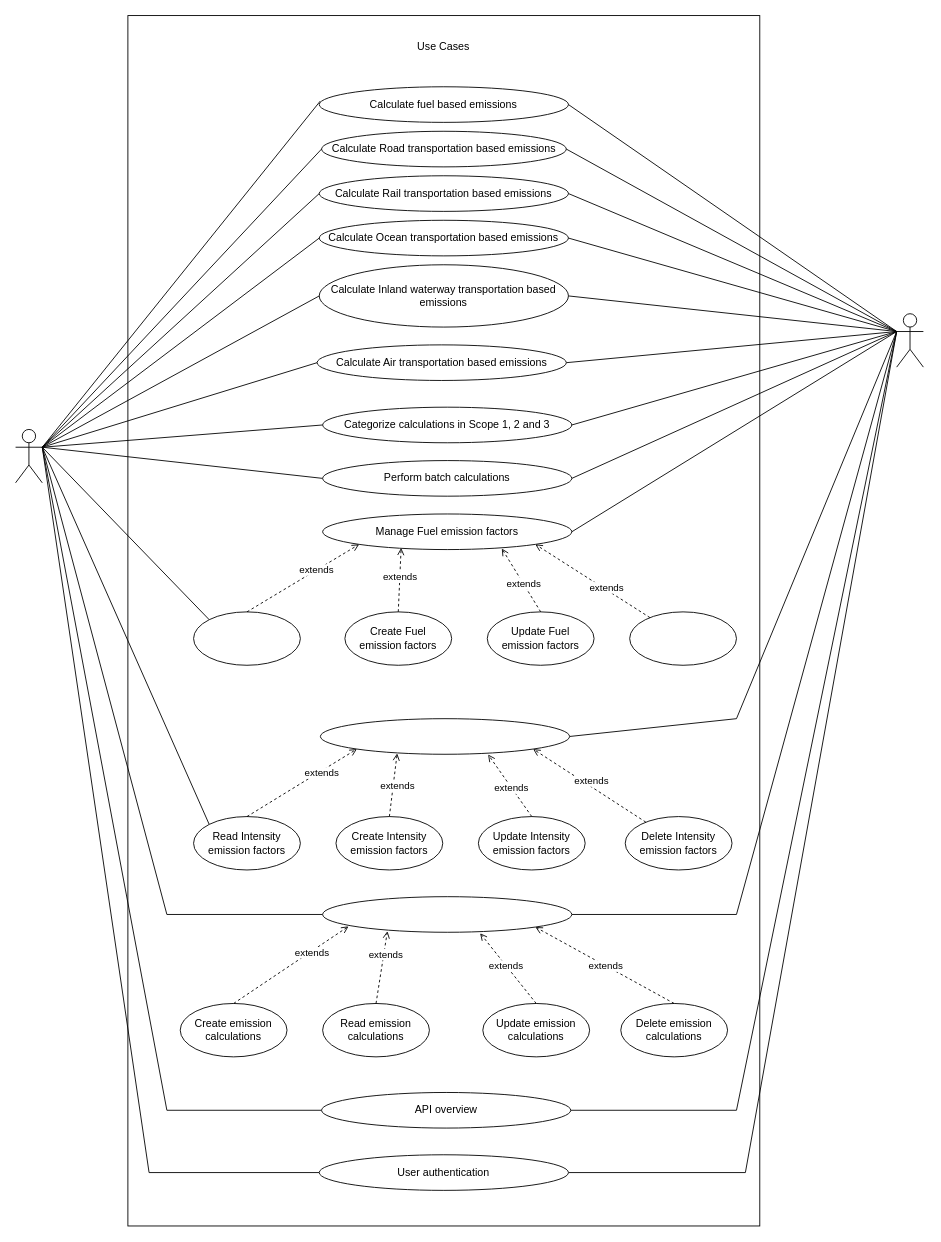
Some shapes in this 941 by 1242 pixel diagram are drawn without their labels. The centre of each missing label's shape, as x and y in pixels:
"Admin" belongs at pixel 909 340.
"Delete Fuel emission factors" belongs at pixel 682 638.
"Manage emission calculations" belongs at pixel 447 914.
"Manage Intensity emission factors" belongs at pixel 445 736.
"Read Fuel emission factors" belongs at pixel 246 638.
"User" belongs at pixel 28 456.
